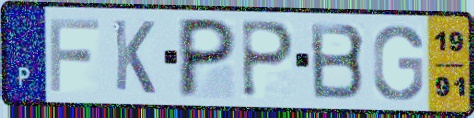B: (308, 20, 368, 103)
F: (47, 15, 102, 94)
G: (370, 23, 426, 103)
K: (111, 16, 158, 97)
P: (175, 15, 240, 101), (240, 18, 297, 101)
